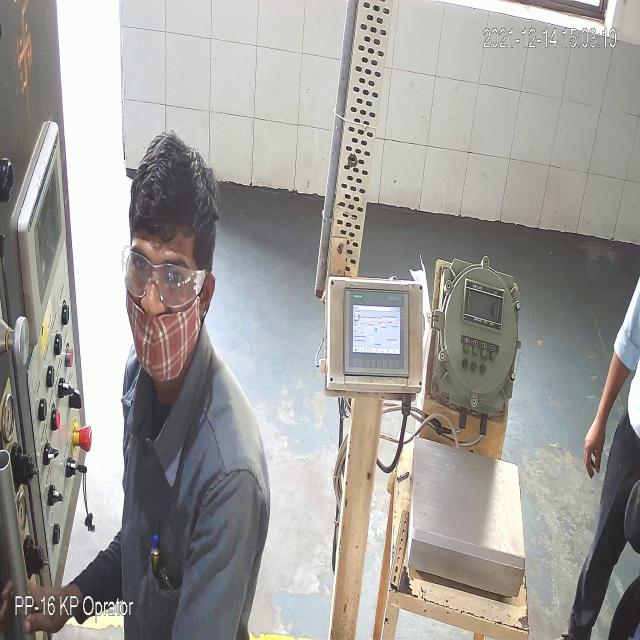glasses: (124, 243, 207, 310)
